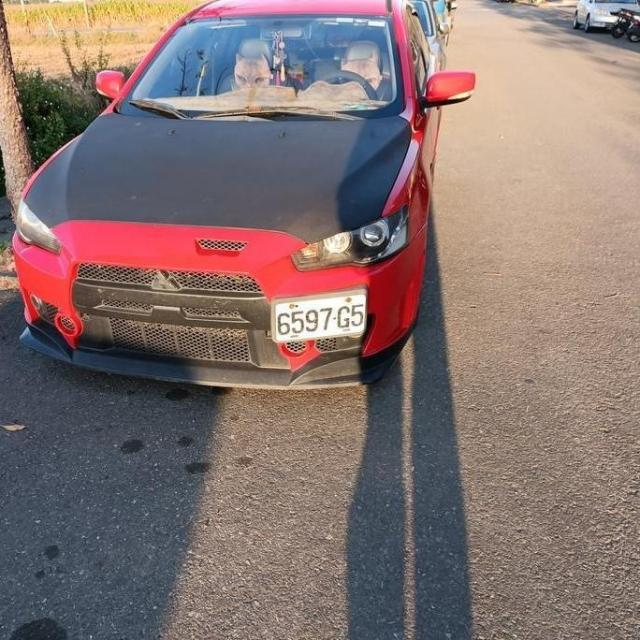W: (264, 282, 374, 361)
